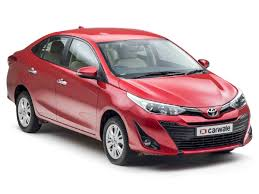Toyota: (9, 29, 252, 153)
